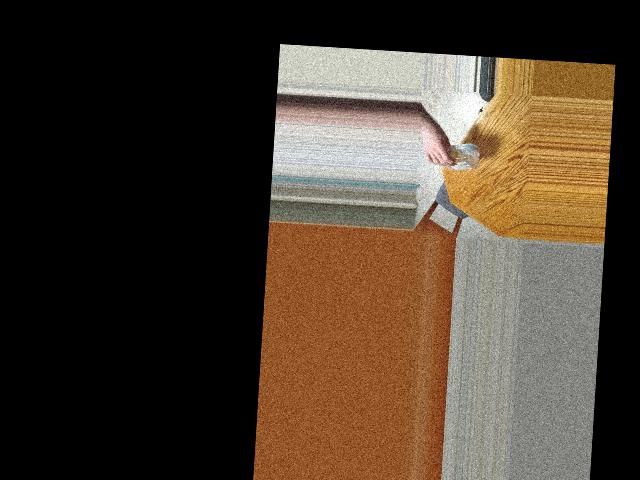cheese: (431, 137, 474, 174)
